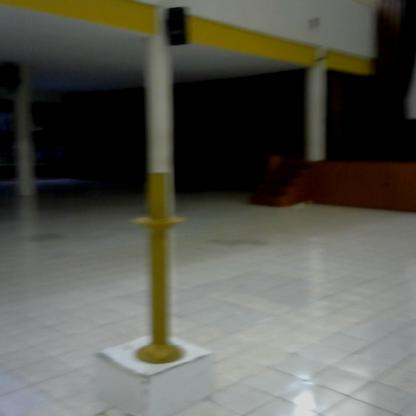pole: (129, 170, 192, 372)
